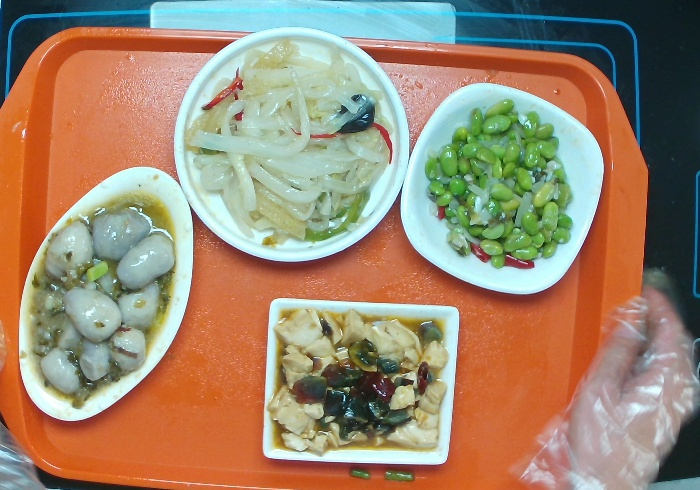HZYJPL-Si_Fang_Die: (249, 284, 469, 474)
HZYJPL-Si_Fang_Yuan_Die: (398, 79, 608, 300)
HZYJPL-Xiao_Yu_Die: (11, 161, 197, 426)
HZYJPL-Xiao_Yuan_Die: (164, 25, 410, 266)
